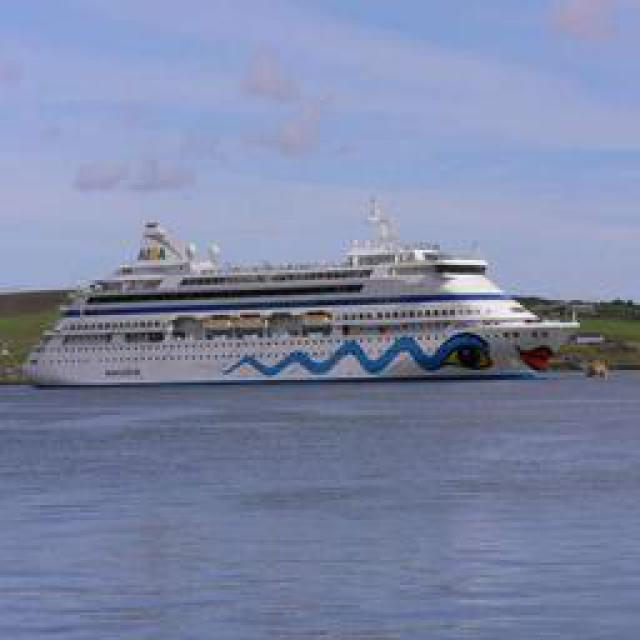Ship: (35, 205, 588, 380)
